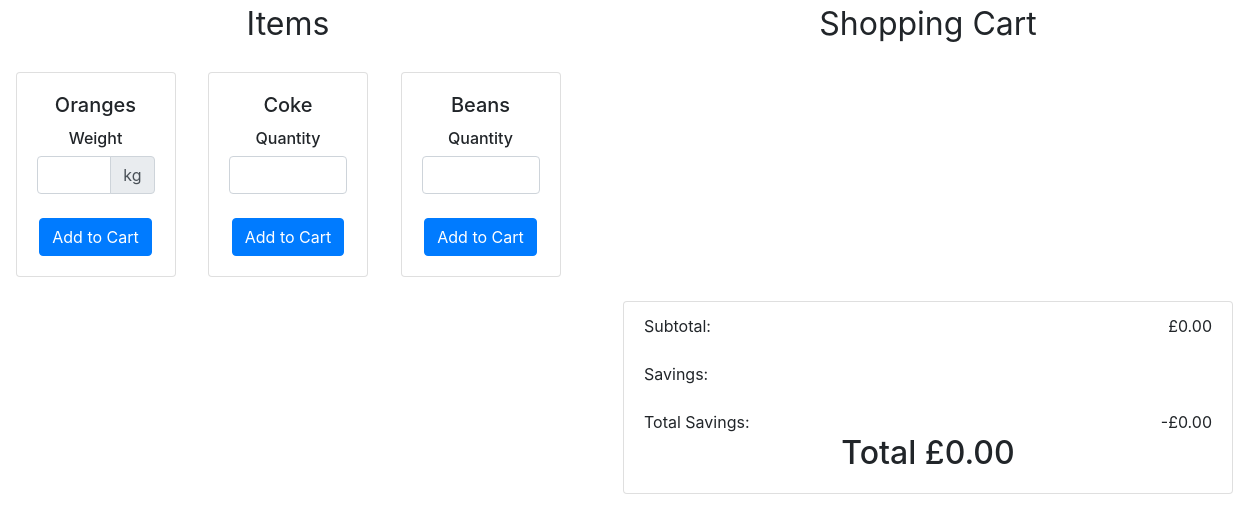
Test: Shopping Cart › should be able to delete Oranges from cart
Type "1" into the field named "Weight" next to "kg" at (75,175), box [37, 156, 112, 194]
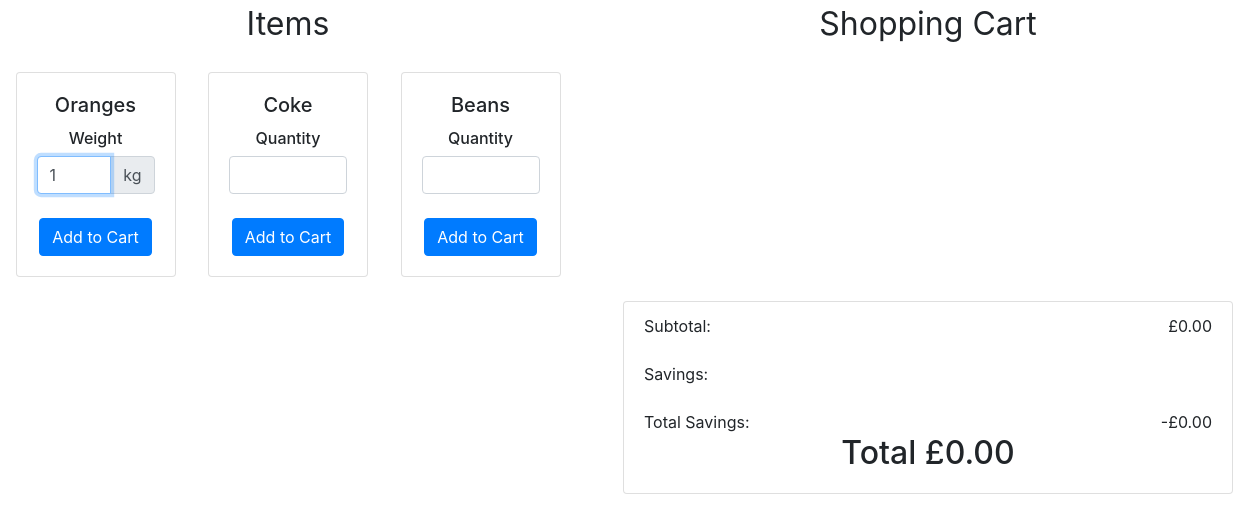
Click the button "Add to Cart" below "kg" at (96,237), box [39, 218, 152, 256]
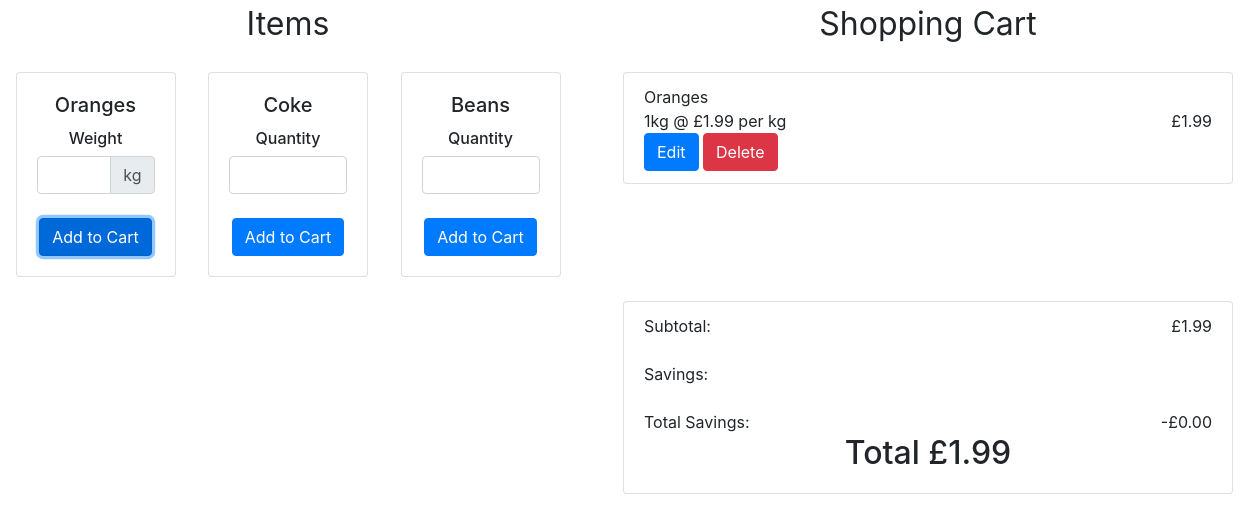
Expected: the element with class "list-group-item" shows "Oranges", [644, 87, 708, 107]
Click the button with class "btn-danger" at (741,152), box [703, 133, 778, 171]
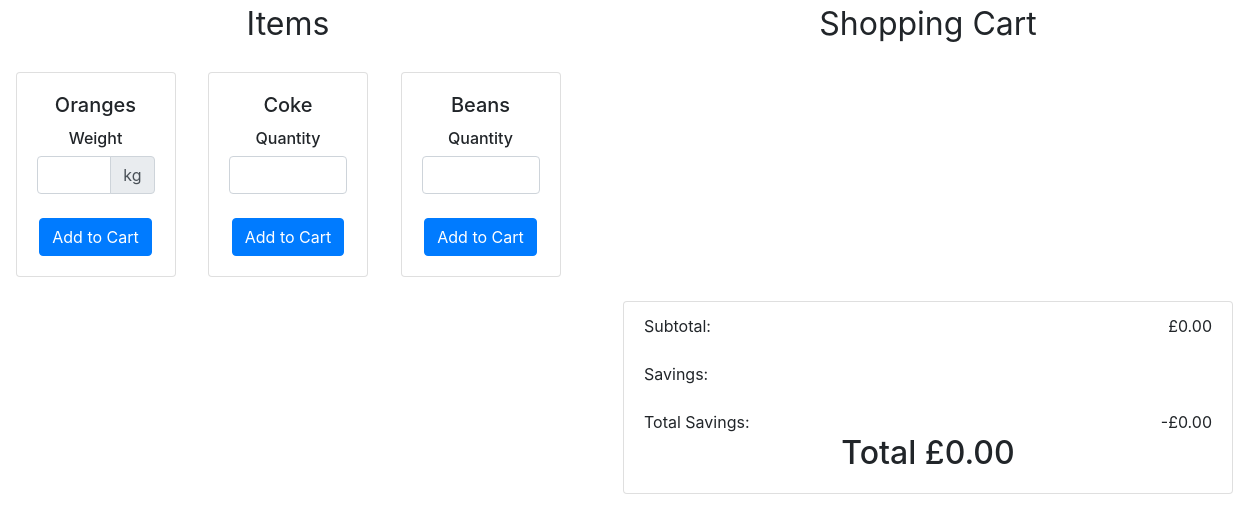
Expected: the element with class "list-group-item" is gone
